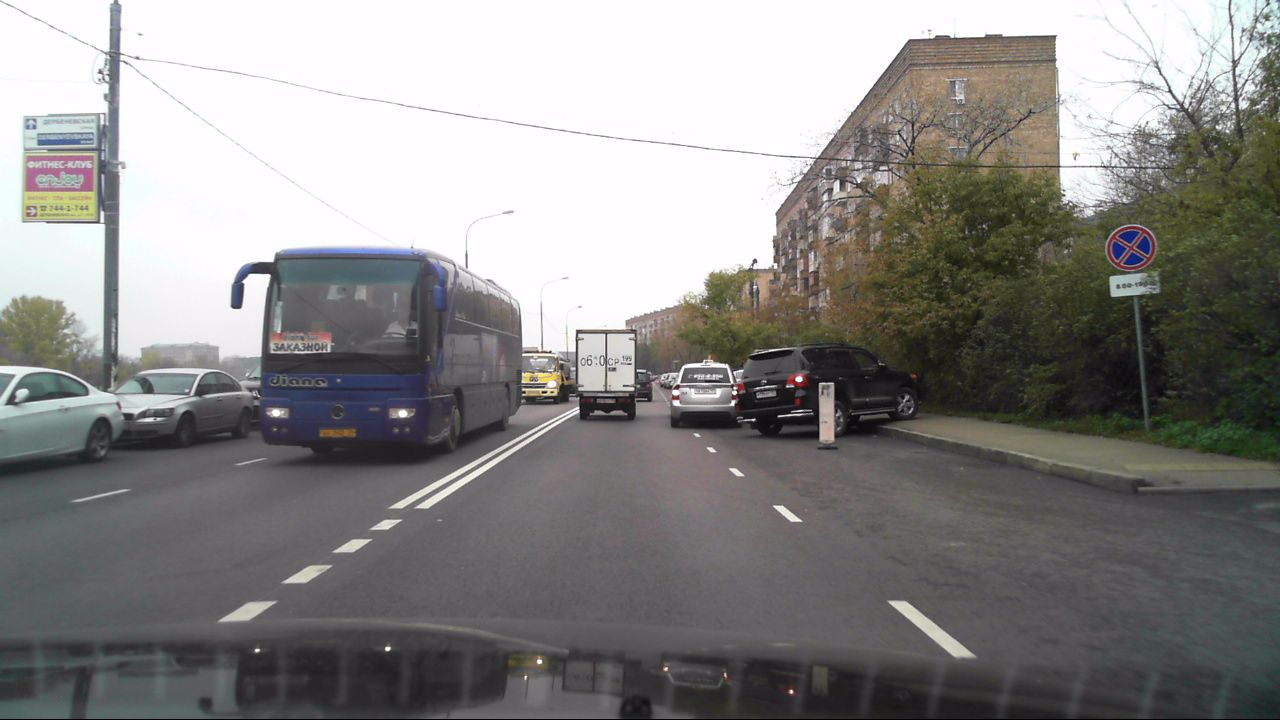No Parking: (1104, 221, 1157, 271)
